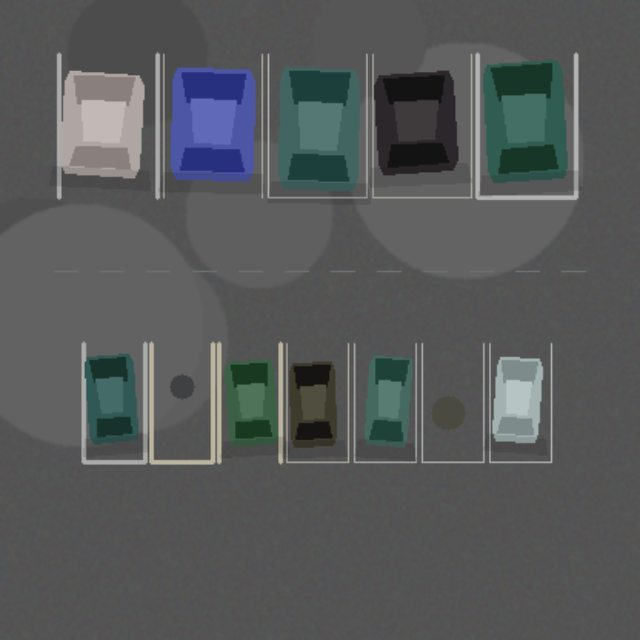space-empty: (151, 343, 212, 462), (422, 343, 483, 462)
space-occupied: (58, 54, 157, 197), (163, 54, 262, 197), (372, 54, 471, 197), (268, 54, 366, 197), (477, 54, 575, 197), (83, 343, 145, 462), (218, 343, 280, 462), (286, 343, 348, 462), (489, 343, 551, 462), (354, 343, 415, 462)
